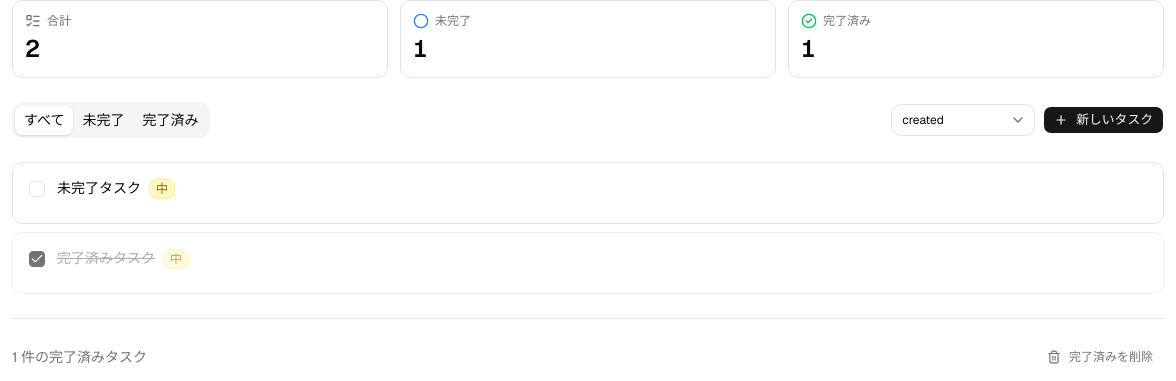
Test case: TodoList › "すべて" タブですべてのtodoを表示する
# いったん別タブへ
What coordinates should you click on to do the following:
click the tab "未完了"
I would click on:
 (104, 120)
Its box is [74,106,134,134].
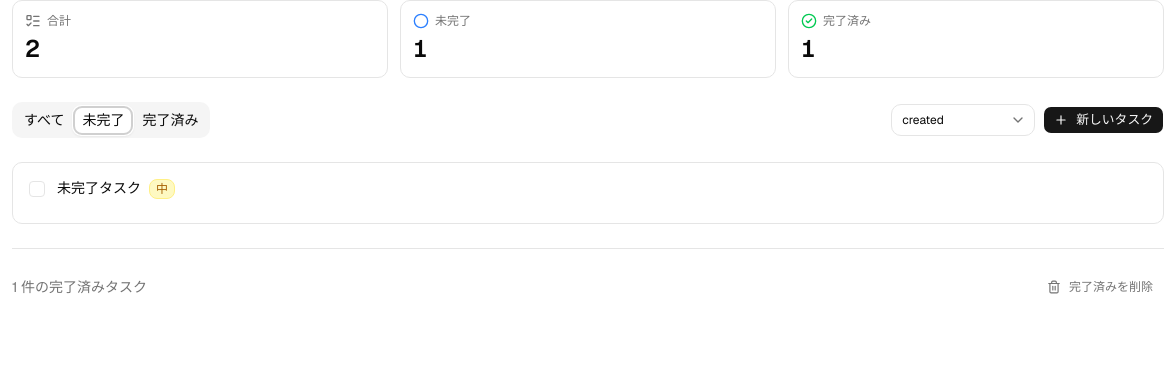
What coordinates should you click on to do the following:
click the tab "すべて"
I would click on:
 (44, 120)
Its box is [15,106,74,134].
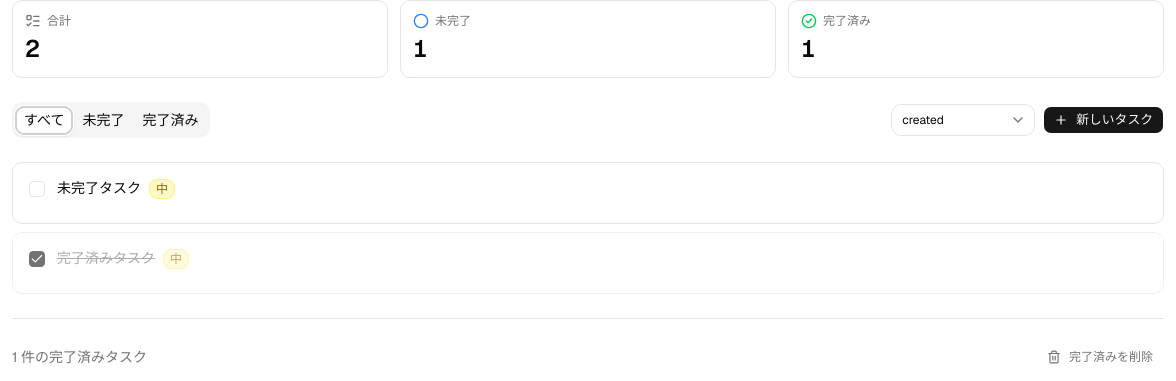
Expected: the text "未完了タスク" is shown, [57,179,141,199]
Expected: the text "完了済みタスク" is shown, [57,249,155,269]
